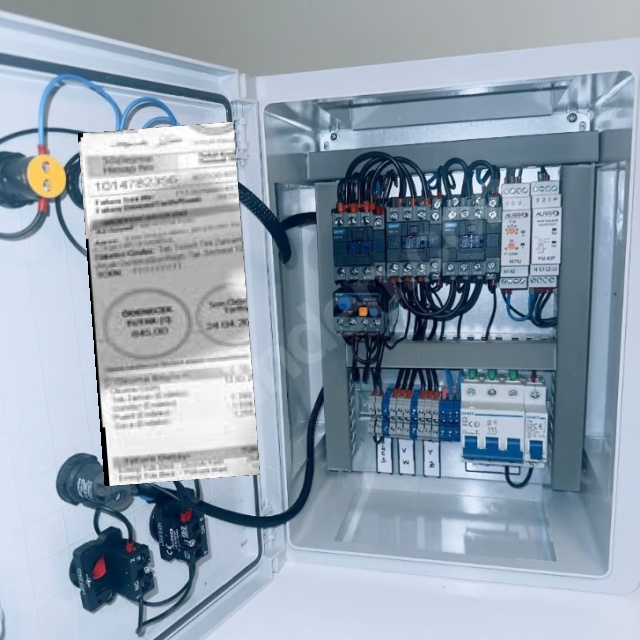electricity-bill: (77, 122, 259, 486)
